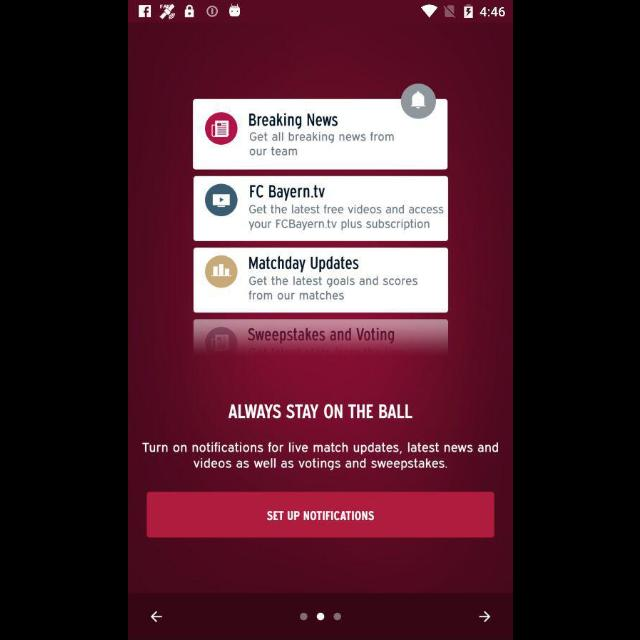icon: (150, 610, 162, 622), (478, 611, 490, 623)
image: (191, 82, 447, 366)
pageindicator: (298, 612, 342, 622)
text: (141, 441, 497, 471), (228, 404, 412, 421)
textbutton: (146, 492, 494, 538)
uppertaskbar: (128, 1, 512, 23)
